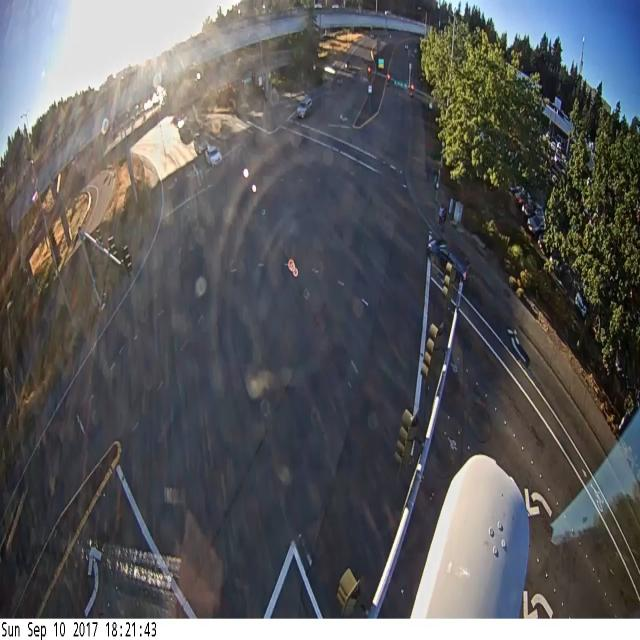car: (428, 240, 469, 278), (527, 214, 545, 239), (522, 204, 543, 223), (204, 144, 222, 166), (297, 97, 313, 118), (575, 291, 587, 318), (194, 134, 207, 154), (515, 189, 529, 207), (172, 115, 186, 128), (314, 3, 323, 8), (332, 4, 339, 9), (370, 32, 375, 39), (405, 44, 408, 50)
pedestrian: (439, 205, 445, 228)
